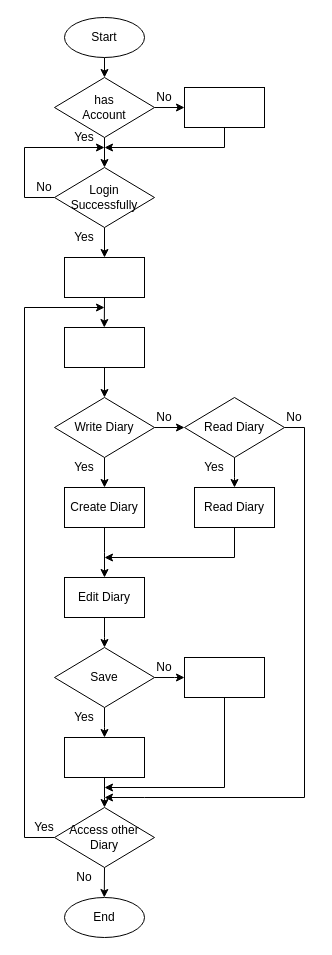
Image size: 332x955. Some labels were removed from this diagram. The centre of each missing label's shape, as x and y in pixels:
"Calendar Display" goes at point (104, 277).
"Choose a Specific Day" goes at point (104, 347).
"Create New Account" goes at point (224, 107).
"Delete Diary" goes at point (224, 677).
"Save Diary" goes at point (104, 757).
